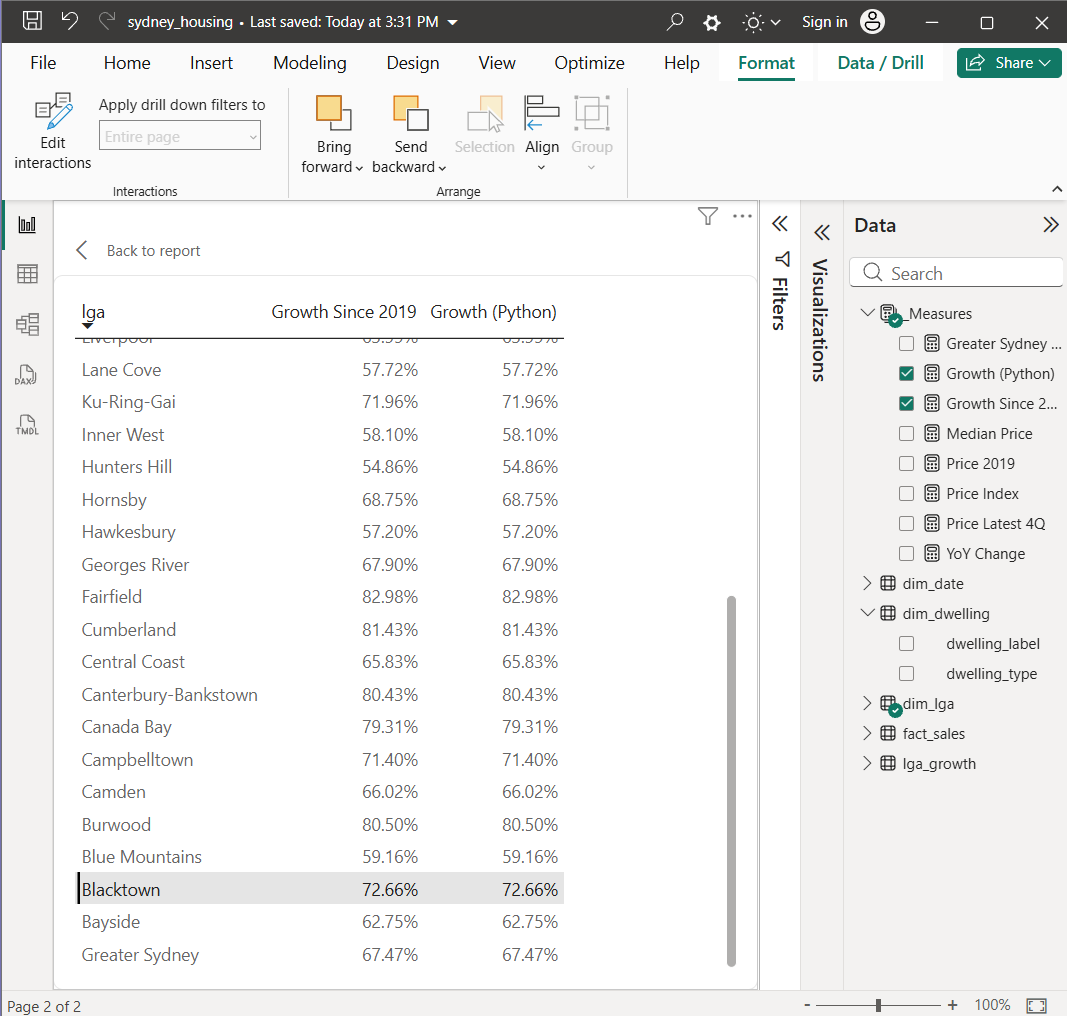

This screenshot's page, from the dashboard's own definition file:
{"tool":"powerbi","page":{"name":"Cross-check","canvas":[1920,1080],"ordinal":1},"visuals":[{"type":"tableEx","fields":{"Values":["dim_lga.lga","_Measures.Growth Since 2019","_Measures.Growth (Python)"]},"box":[10.2,0,1908.5,1078.4],"z":0}]}

Visuals, with their boxes on the page's 1920x1080 design canvas (x1, y1, x2, y2). These are canvas units, not pixel positions in the 1067x1016 screenshot, which may show the page scaled, cropped or inside an application window:
tableEx - dim_lga.lga x _Measures.Growth Since 2019: locate(10, 0, 1919, 1078)
